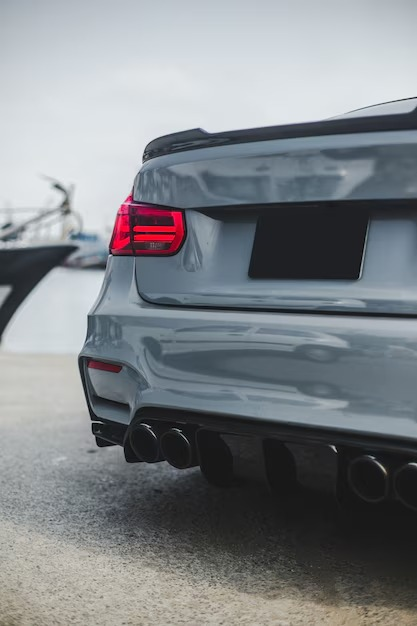car: (74, 122, 417, 548), (68, 144, 417, 541), (78, 143, 417, 542), (2, 176, 84, 293)
